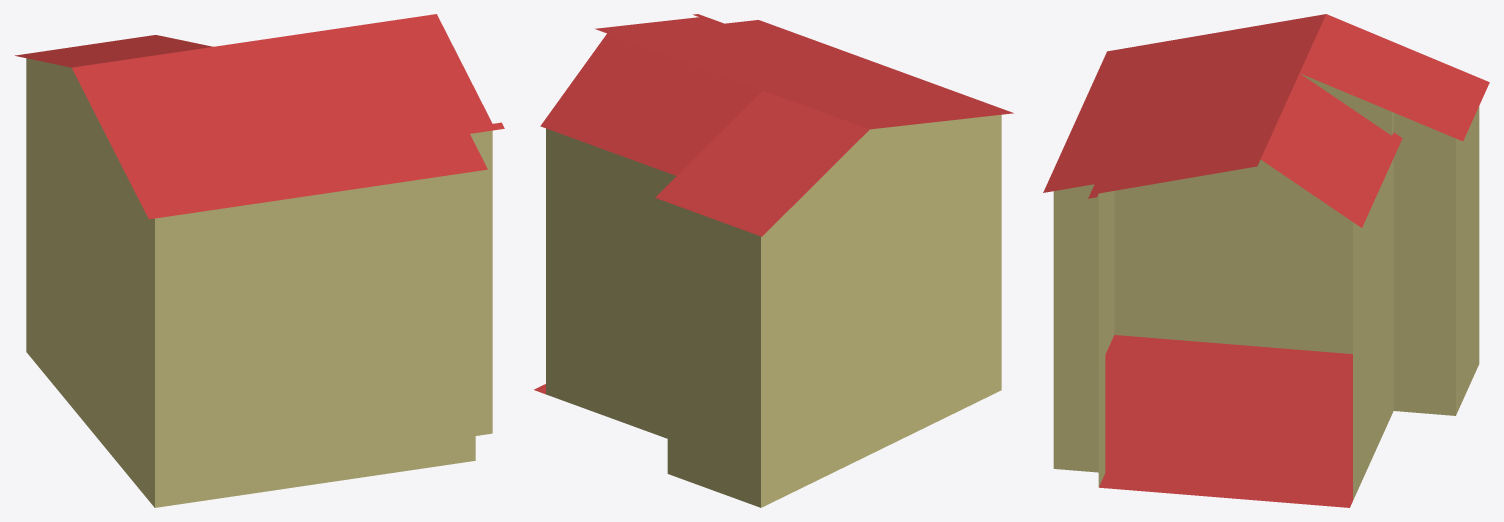
The picture shows the model from 3 angles, left to right: view 1: azimuth 30°, elevation 25°; view 2: azimuth 150°, elevation 25°; view 3: azimuth 270°, elevation 25°; orthographic projection. The views are drawn at different scales.
Size of the model in its own units: 11.47 by 12.19 by 10.06.
